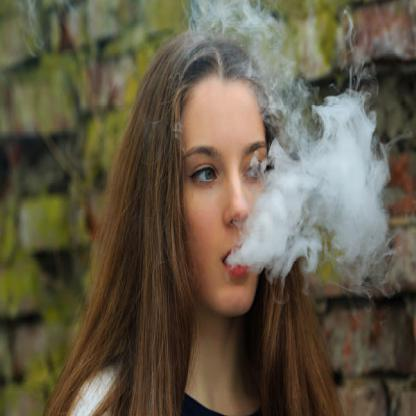person: (71, 31, 326, 415)
smoke: (312, 90, 392, 282), (236, 144, 322, 280), (186, 0, 280, 45)
